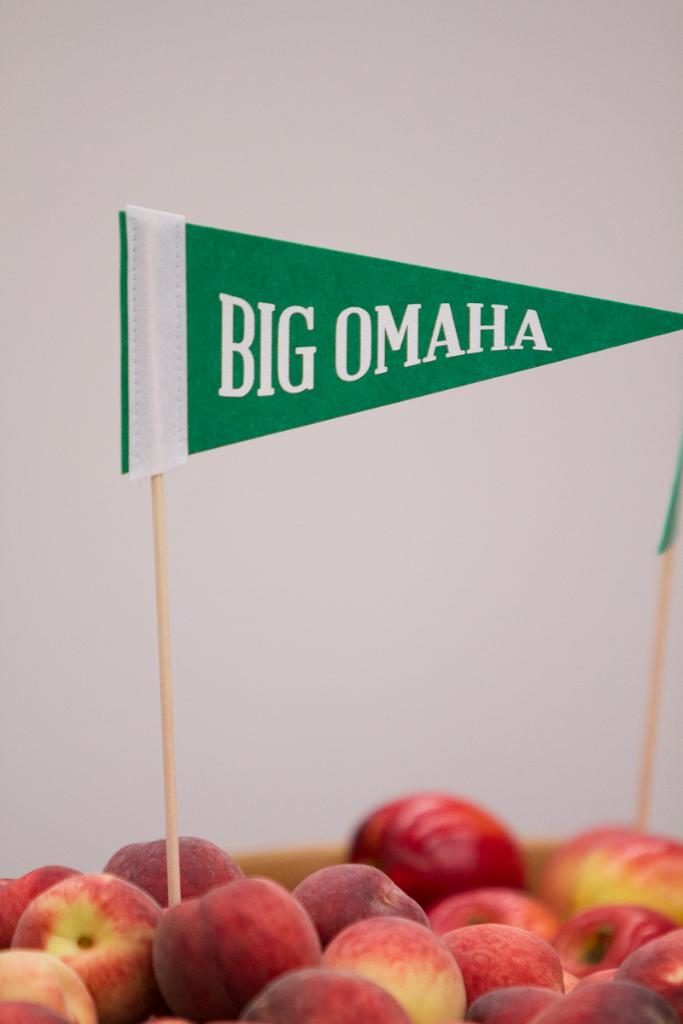Apple: (0, 793, 682, 1023), (23, 874, 159, 1018)
